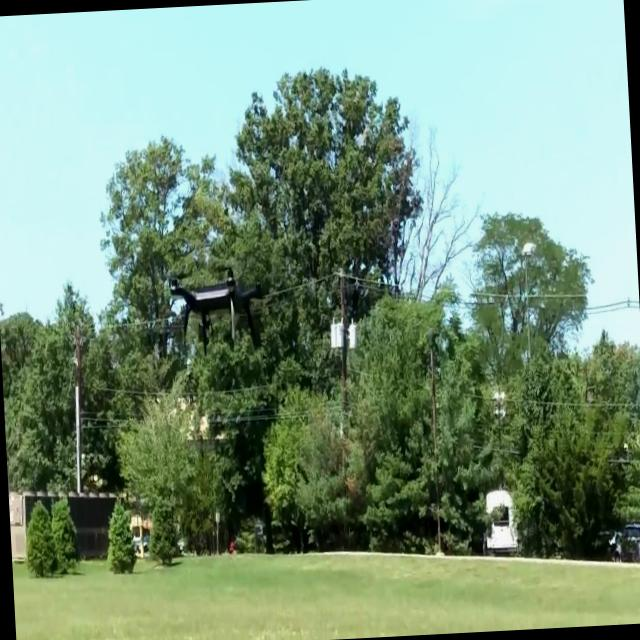drone: (168, 262, 269, 358)
